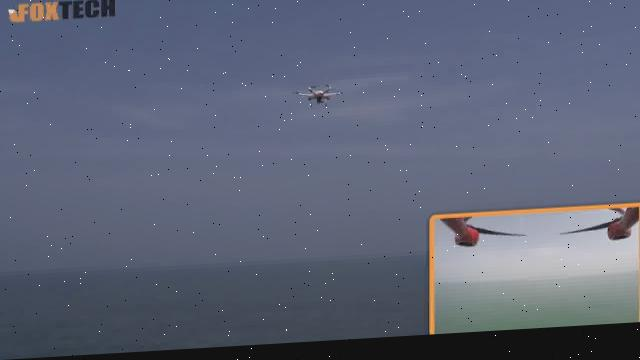drone: (294, 76, 346, 116)
